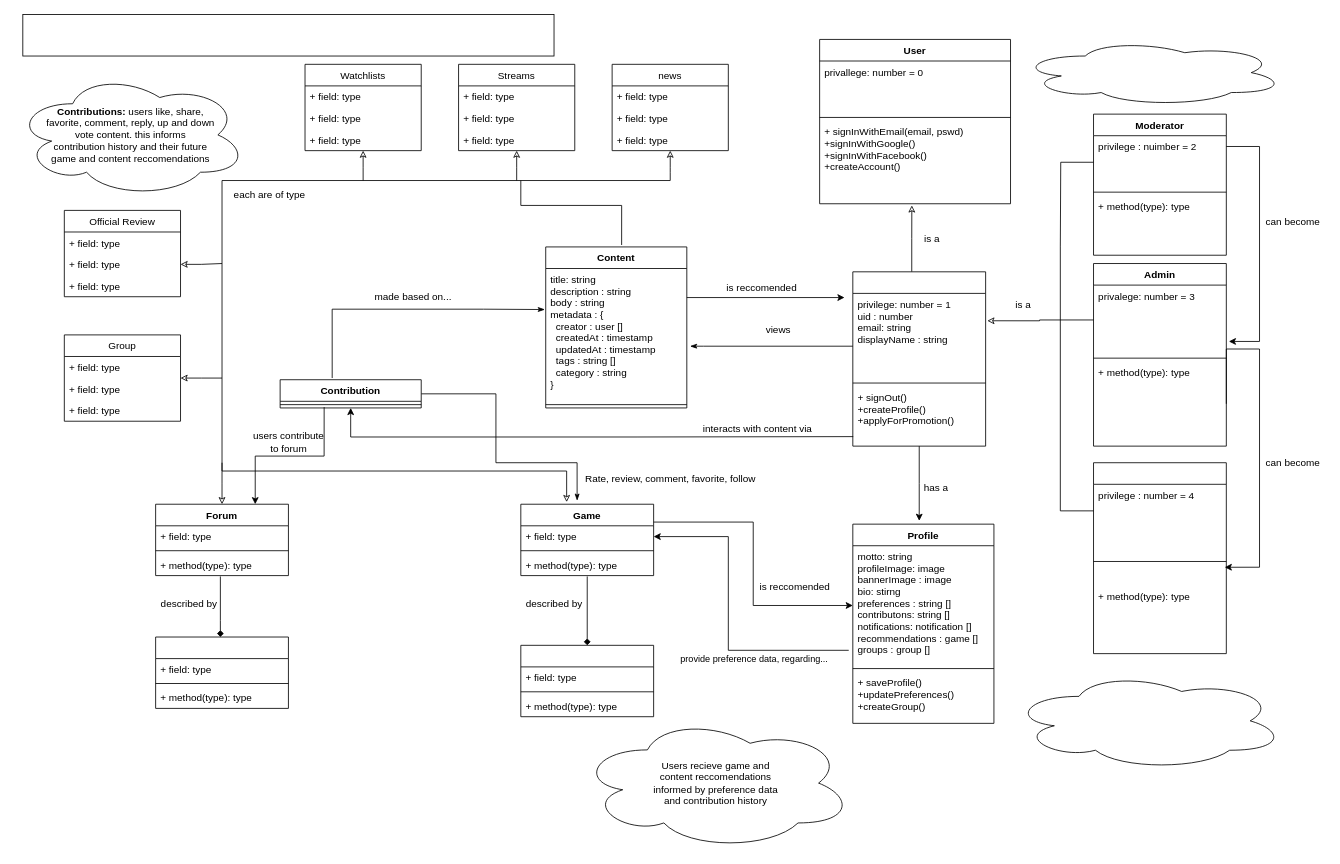
Image size: 1340x864. Some labels were removed from this diagram. The box of each missing label's shape, as (x1, y1, x2, y2) in pixels:
Account Holder: (852, 271, 986, 446)
control over site content increases as privilege rating rises: (1010, 671, 1284, 770)
Forum-Info: (155, 636, 288, 708)
Game-Info: (520, 644, 654, 717)
guests are untracked users with no content creation privileges.: (1018, 39, 1284, 106)
IVDB: Internet Videgame Database version 3.0.1 B P S ~ 6/23/2021: (22, 14, 554, 56)
Site Owner: (1093, 462, 1226, 654)
